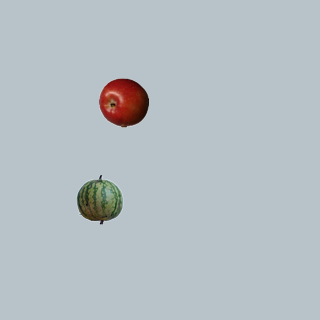Apple Braeburn: (98, 77, 148, 127)
Watermelon: (74, 174, 124, 224)
